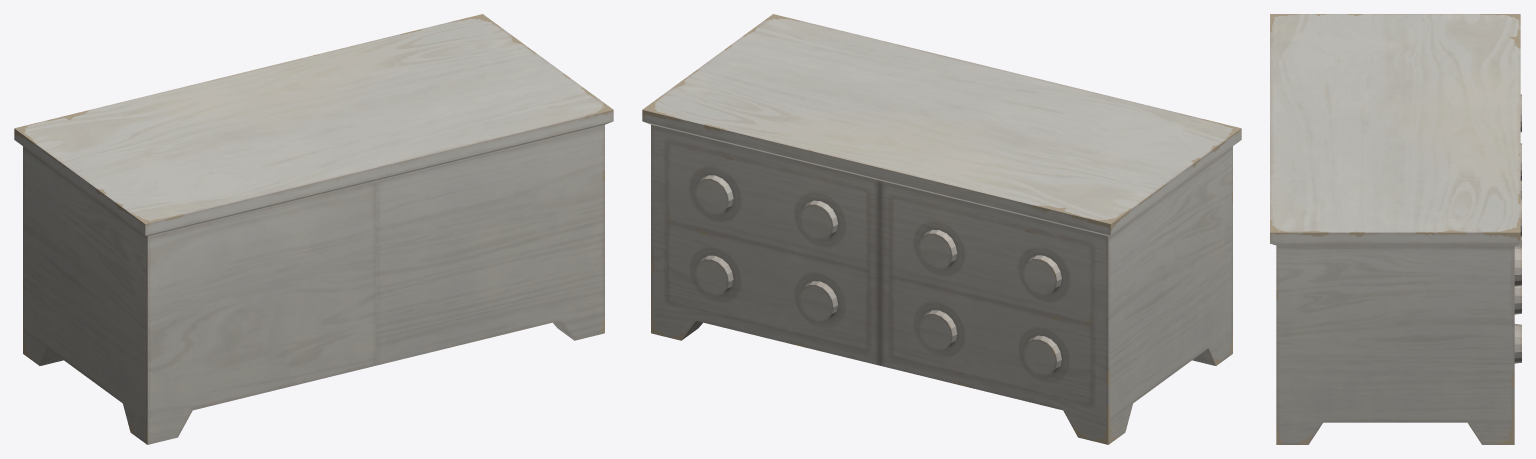
The model's file is P_Cabinet_017_S1_M01.obj.
3 views of the same model, side by side, from view 1: azimuth 30°, elevation 25°; view 2: azimuth 150°, elevation 25°; view 3: azimuth 270°, elevation 25° (orthographic). The views are drawn at different scales.
Bounding box in the file's own units: 1.97 × 0.9003 × 0.9567.
1 material, 1 textured.
